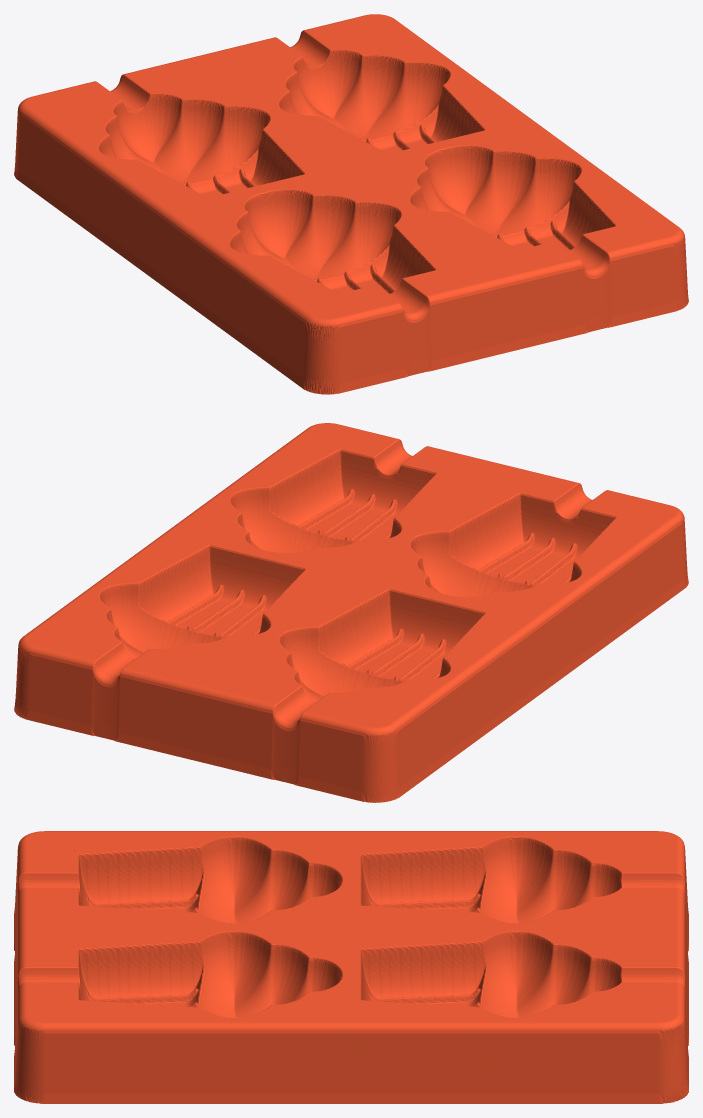
File: mold.glb
The picture shows the model from 3 angles, top to bottom: view 1: azimuth 30°, elevation 25°; view 2: azimuth 150°, elevation 25°; view 3: azimuth 270°, elevation 25°; orthographic projection. The views are drawn at different scales.
Parts seen in each view (by area): view 1: geometry_0; view 2: geometry_0; view 3: geometry_0.
Boxes of the visible parts, x1,y1,x2,y2 form: geometry_0: [14, 14, 688, 394]; geometry_0: [14, 423, 688, 802]; geometry_0: [14, 831, 688, 1103].
Bounding box in the file's own units: 0.1387 × 0.0245 × 0.1968.
